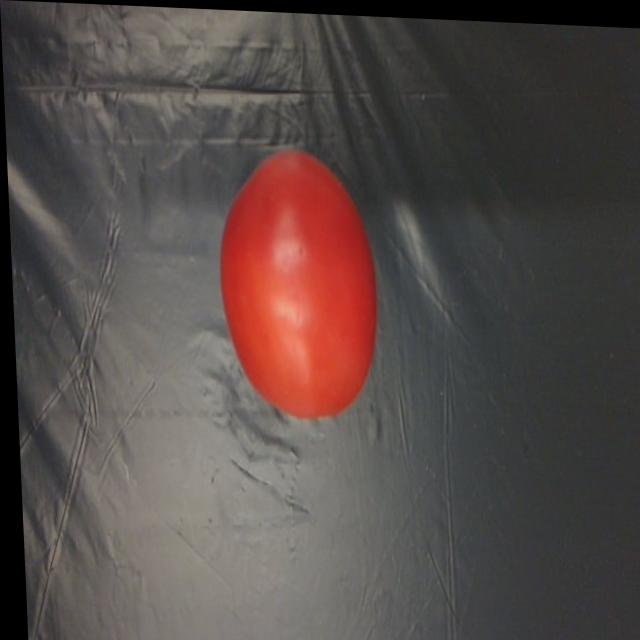kirmizi: (208, 138, 395, 434)
